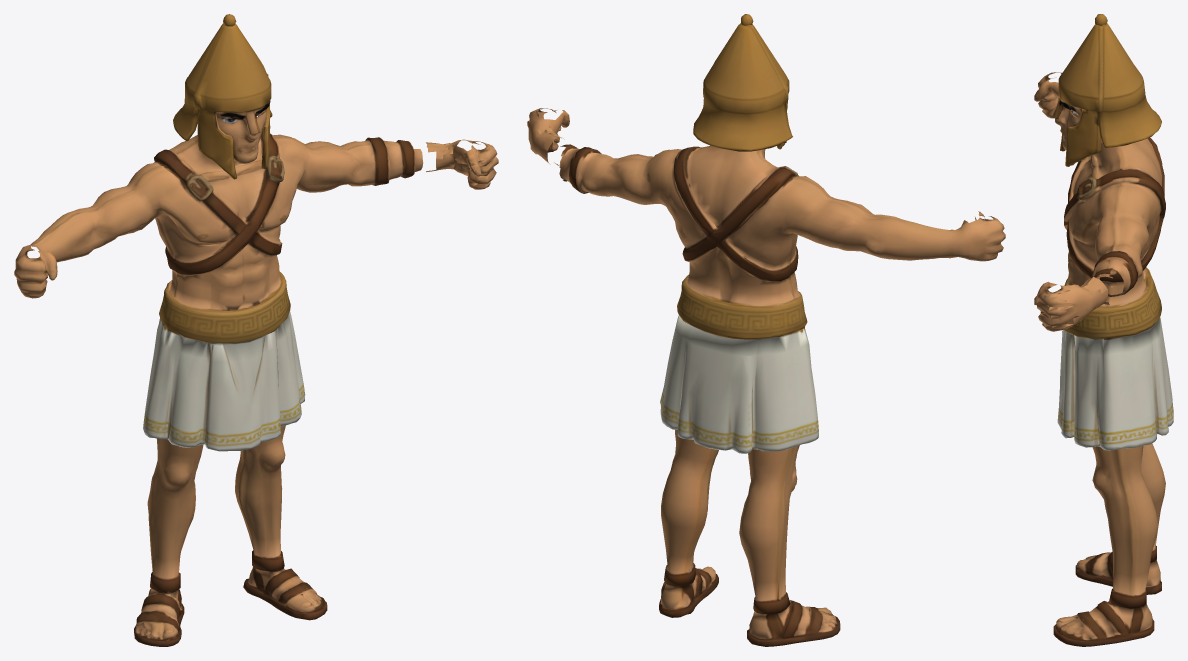
File: guard_clean.glb
3 views of the same model, side by side, from view 1: azimuth 30°, elevation 25°; view 2: azimuth 150°, elevation 25°; view 3: azimuth 270°, elevation 25° (orthographic).
Parts seen in each view (by area): view 1: tripo_node_4dca8870-b836-4271-9a00-075580a0d753; view 2: tripo_node_4dca8870-b836-4271-9a00-075580a0d753; view 3: tripo_node_4dca8870-b836-4271-9a00-075580a0d753.
Part boxes in pixels (box(x1,y1,x2,y2)): tripo_node_4dca8870-b836-4271-9a00-075580a0d753: box(14, 14, 498, 646); tripo_node_4dca8870-b836-4271-9a00-075580a0d753: box(527, 14, 1005, 646); tripo_node_4dca8870-b836-4271-9a00-075580a0d753: box(1034, 14, 1173, 646).
Size of the model in its own units: 0.8239 by 0.9941 by 0.2114.
1 material, 1 textured.
